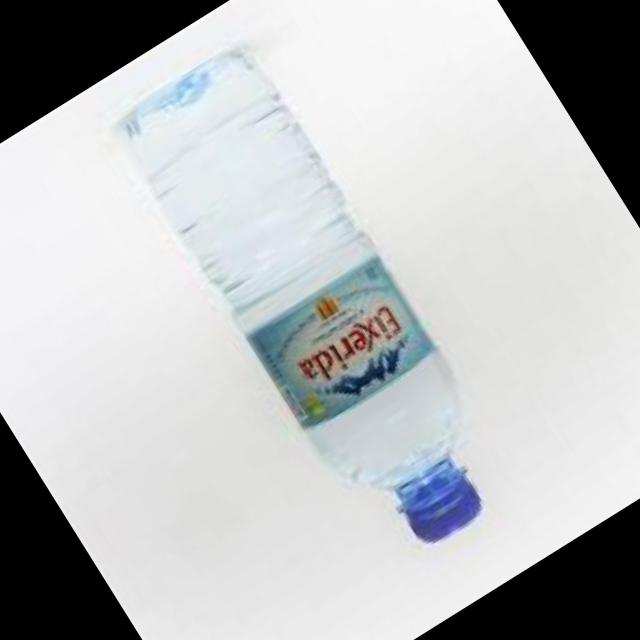Kaleng: (104, 33, 533, 578)
